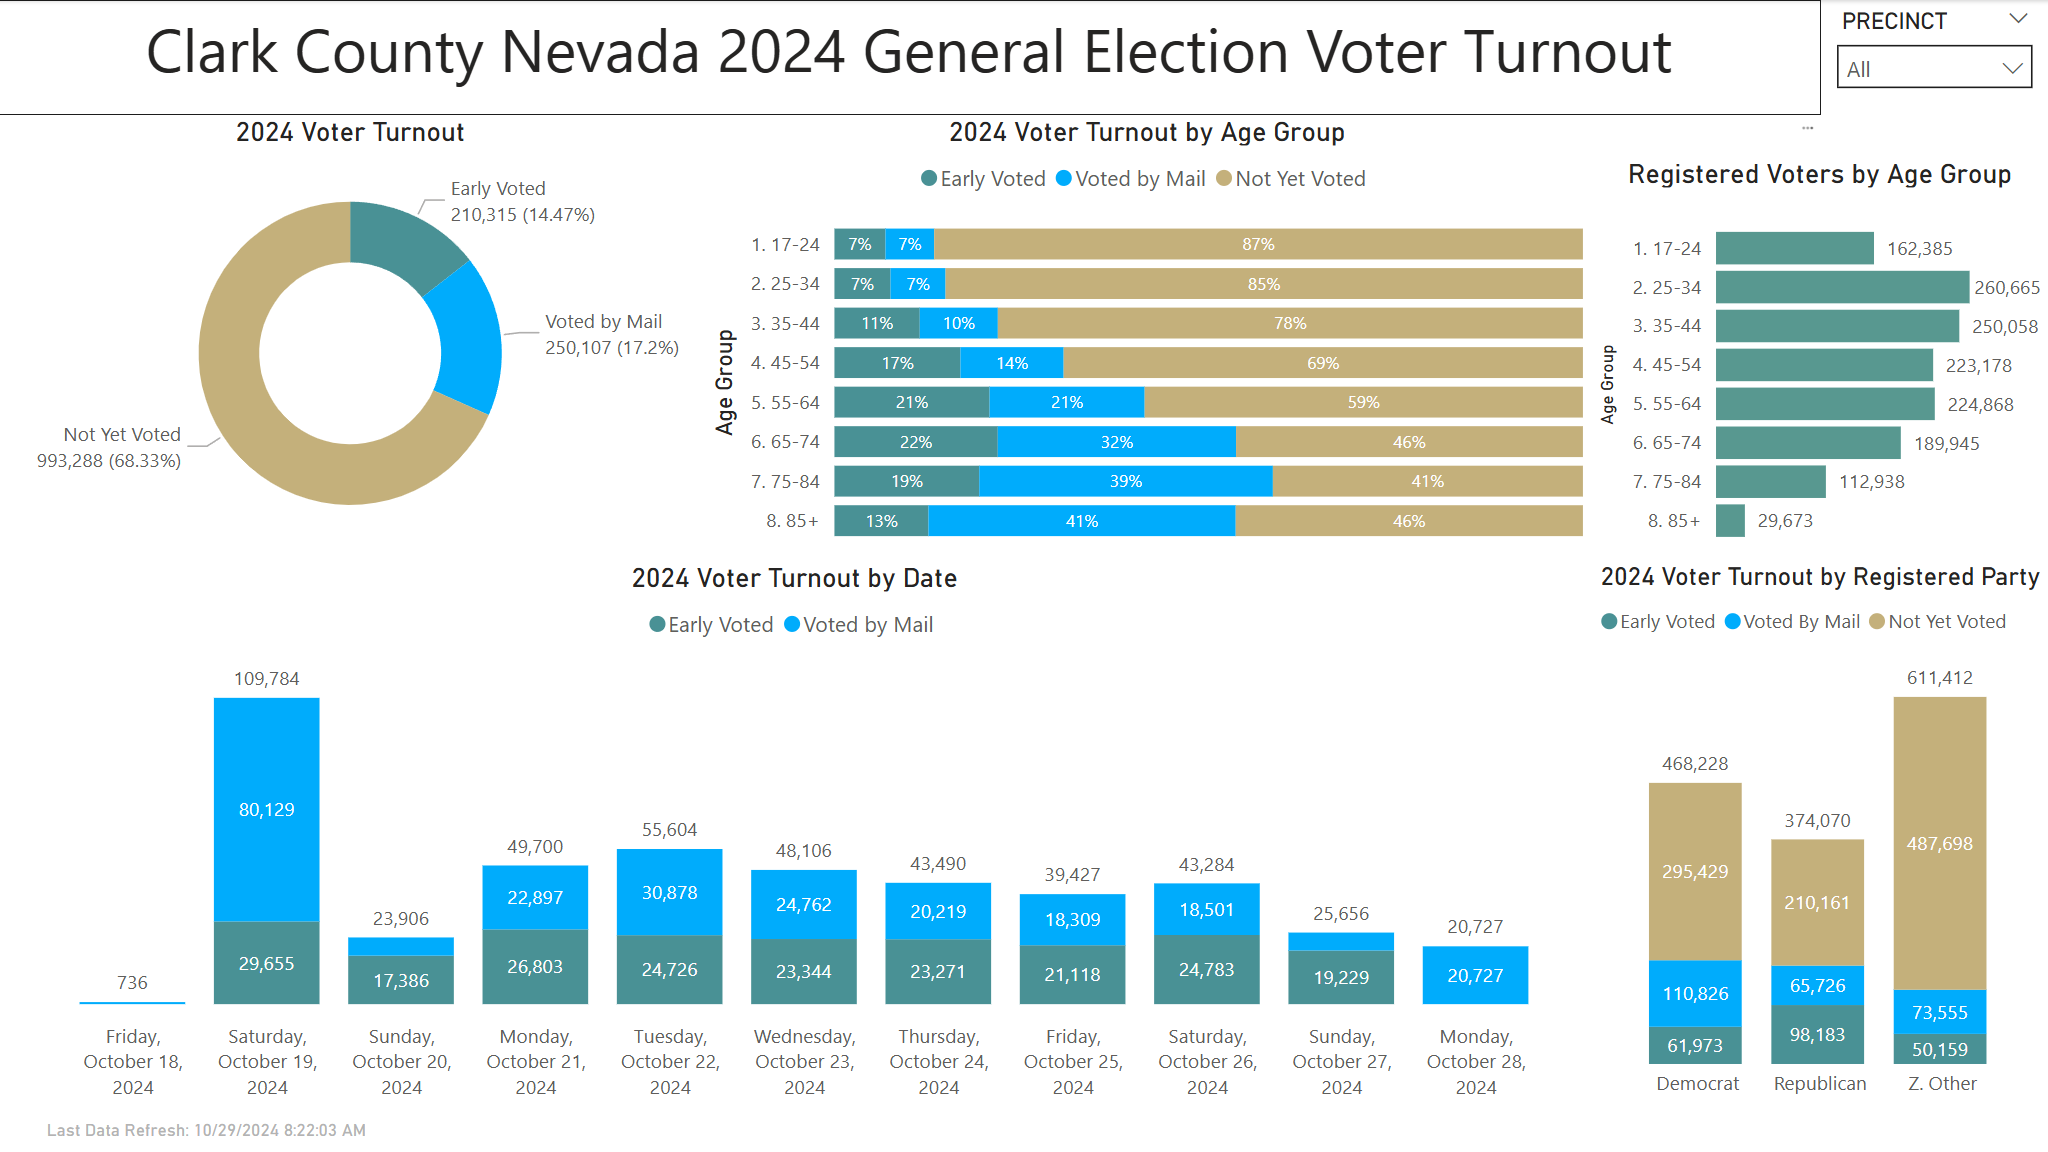

Layout of this report page (visuals, bound fields, positions):
{"tool":"powerbi","page":{"name":"Dashboard","canvas":[1280,720],"ordinal":0},"visuals":[{"type":"columnChart","title":"2024 Voter Turnout by Date","fields":{"Category":["VoteStatus_20241028.G2024_Voted_Date"],"Y":["Sum(VoteStatus_20241028.Voted_Early)","Sum(VoteStatus_20241028.Voted_Mail)"]},"box":[0,349.7,995.1,343.8],"z":0},{"type":"donutChart","title":"2024 Voter Turnout","fields":{"Y":["Sum(VoteStatus_20241028.Voted_Early)","Sum(VoteStatus_20241028.Voted_Mail)","Sum(VoteStatus_20241028.Not_Voted)"]},"box":[0,71.6,440.7,278.4],"z":1000},{"type":"hundredPercentStackedBarChart","title":"2024 Voter Turnout by Age Group","fields":{"Category":["VoteStatus_20241028.Age_Group"],"Y":["Sum(VoteStatus_20241028.Voted_Early)","Sum(VoteStatus_20241028.Voted_Mail)","Sum(VoteStatus_20241028.Not_Voted)"]},"box":[440.7,71.6,554.1,278.4],"z":2000},{"type":"textbox","title":"Title","box":[0,0,1138,71.6],"z":3000},{"type":"columnChart","title":"2024 Voter Turnout by Registered Party","fields":{"Category":["VoteStatus_20241028.PARTY"],"Y":["Sum(VoteStatus.Voted_Early)","Sum(VoteStatus.Voted_Mail)","Sum(VoteStatus.Not_Voted)"]},"box":[995.1,349.7,284.9,343.8],"z":4000},{"type":"slicer","title":"Precinct Slicer","fields":{"Values":["VoteStatus_20241028.PRECINCT"]},"box":[1138,0,142.4,59.8],"z":5000},{"type":"barChart","title":"Registered Voters by Age Group","fields":{"Category":["VoteStatus_20241028.Age_Group"],"Y":["Sum(VoteStatus.QTY)"]},"box":[994.8,97.9,285.6,252.1],"z":6000},{"type":"card","title":"Last Data Refresh","fields":{"Values":["Reload Time.Refresh Time Label"]},"box":[0,693.5,261.3,26.5],"z":7000}]}

Visuals, with their boxes in screenshot pixels (x1, y1, x2, y2), scaled from the page's 1280x720 canvas onto the 2048x1152 screenshot:
"2024 Voter Turnout by Date" columnChart: (0, 560, 1592, 1110)
"2024 Voter Turnout" donutChart: (0, 115, 705, 560)
"2024 Voter Turnout by Age Group" hundredPercentStackedBarChart: (705, 115, 1592, 560)
"Title" textbox: (0, 0, 1821, 115)
"2024 Voter Turnout by Registered Party" columnChart: (1592, 560, 2047, 1110)
"Precinct Slicer" slicer: (1821, 0, 2047, 96)
"Registered Voters by Age Group" barChart: (1592, 157, 2047, 560)
"Last Data Refresh" card: (0, 1110, 418, 1151)
